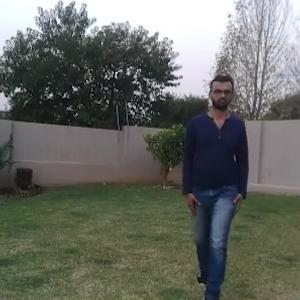follow: (181, 69, 247, 299)
